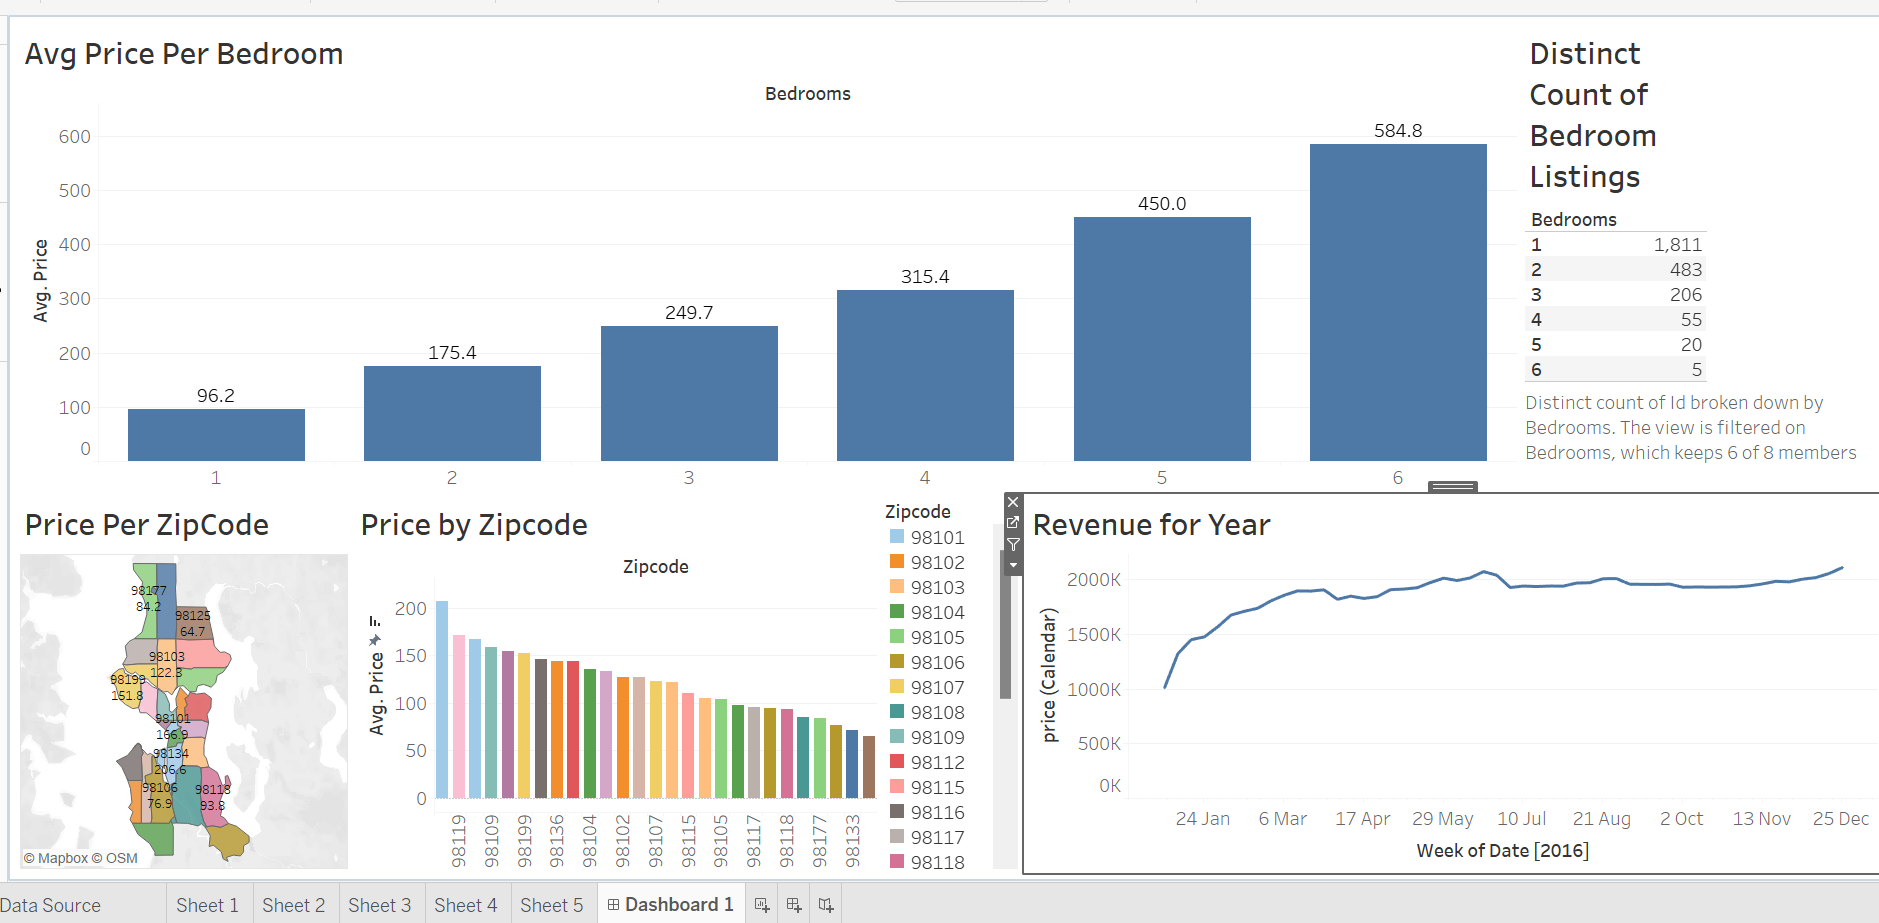

This screenshot's page, from the dashboard's own definition file:
{"tool":"tableau","page":{"name":"Dashboard 1","canvas":[1000,1000],"units":"permille","ordinal":0},"visuals":[{"type":"worksheet","title":"Sheet 4","mark":"Automatic","rows":["price"],"cols":["bedrooms"],"box":[5,9.2,798.6,543.9]},{"type":"worksheet","title":"Sheet 5","mark":"Automatic","rows":["bedrooms"],"box":[803.6,9.2,191.4,543.9]},{"type":"worksheet","title":"Sheet 2","mark":"Multipolygon","box":[5,553.1,178.3,437.6]},{"type":"worksheet","title":"Sheet 1","mark":"Automatic","rows":["price"],"cols":["zipcode"],"box":[183.3,553.1,280.6,437.6]},{"type":"legend","title":"Sheet 1","param":"[federated.0pdc9q40rk681f1df25ng1qzjcn2].[none:zipcode:ok]","box":[463.8,553.1,76.1,437.6]},{"type":"worksheet","title":"Sheet 3","mark":"Automatic","rows":["price (Calendar)"],"cols":["date"],"box":[539.9,553.1,455.1,437.6]}]}

Visuals, with their boxes on the dashboard's canvas, which has no fixed pixel size, in thousandths of its width and height (x1, y1, x2, y2). These are canvas units, not pixel positions in the 1879x923 screenshot, which may show the page scaled, cropped or inside an application window:
"Sheet 4" worksheet: (5,9,804,553)
"Sheet 5" worksheet: (804,9,995,553)
"Sheet 2" worksheet (Multipolygon marks): (5,553,183,991)
"Sheet 1" worksheet: (183,553,464,991)
"Sheet 1" legend: (464,553,540,991)
"Sheet 3" worksheet: (540,553,995,991)
